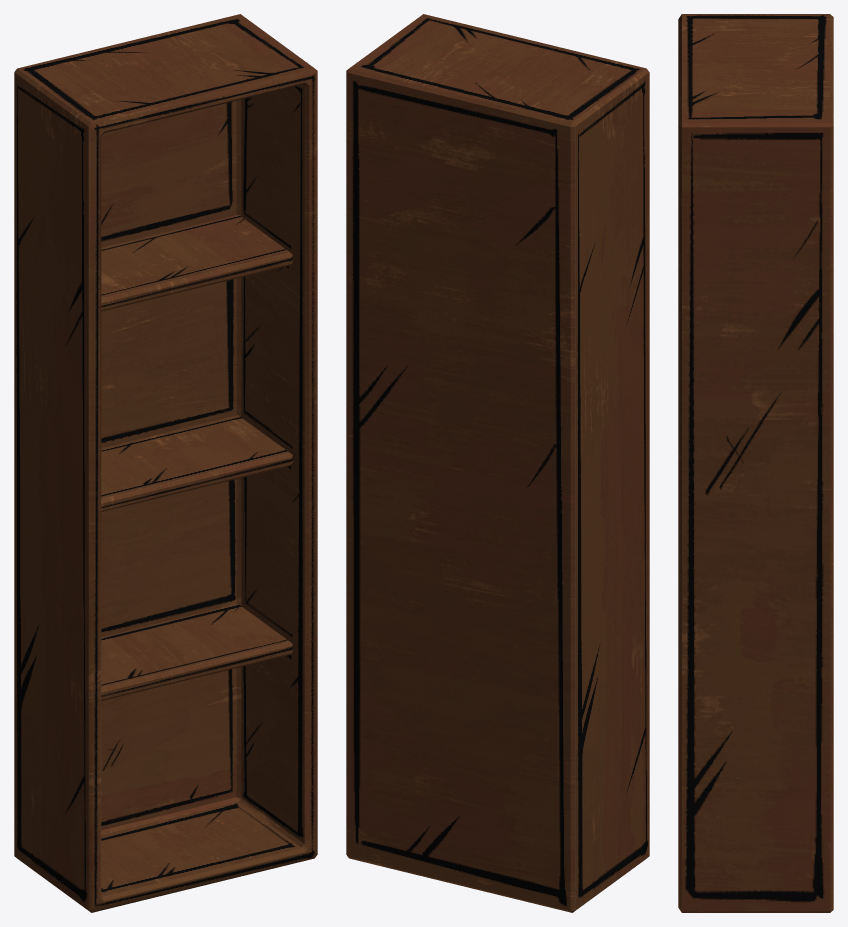
The model's file is Shelf_C.glb.
The picture shows the model from 3 angles, left to right: view 1: azimuth 30°, elevation 25°; view 2: azimuth 150°, elevation 25°; view 3: azimuth 270°, elevation 25°; orthographic projection.
Visible parts, largest first — view 1: Shelf C; view 2: Shelf C; view 3: Shelf C.
Part boxes in pixels (<box>): Shelf C: <box>14,14,317,912</box>; Shelf C: <box>346,14,649,912</box>; Shelf C: <box>678,14,833,912</box>.
Bounding box in the file's own units: 3.26 × 10.76 × 1.91.
Materials: 1 (1 with a texture image).
